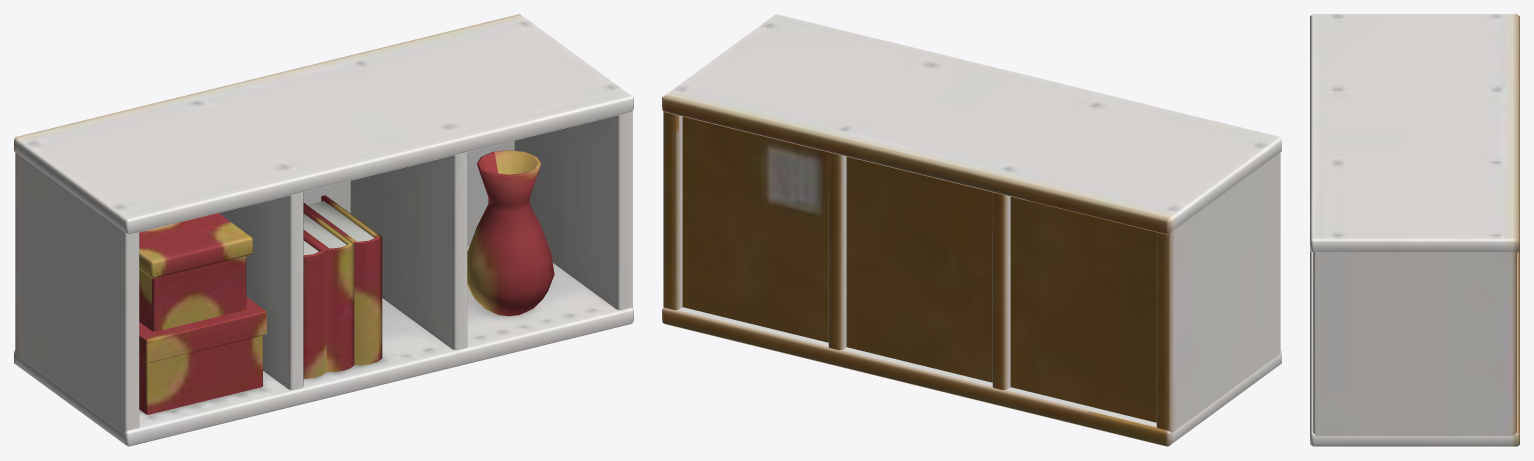
3 renders of one model, left to right at view 1: azimuth 30°, elevation 25°; view 2: azimuth 150°, elevation 25°; view 3: azimuth 270°, elevation 25°, orthographic. The views are drawn at different scales.
Bounding box in the file's own units: 18.16 × 7.79 × 7.1.
Materials: 2 (2 with a texture image).
